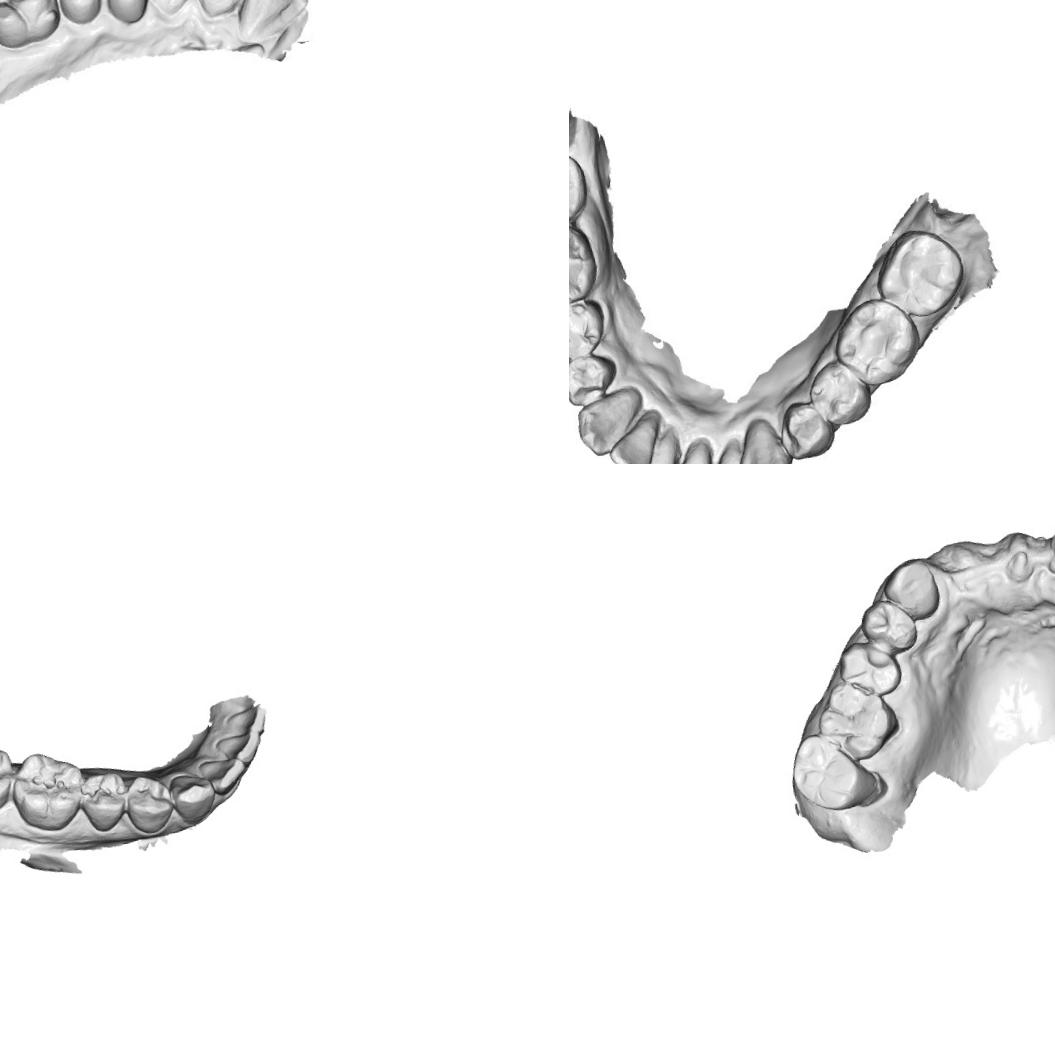canine: (574, 386, 640, 459), (880, 554, 944, 625), (731, 411, 794, 464), (165, 770, 218, 828), (141, 0, 208, 20)
incisor: (611, 408, 661, 464), (196, 754, 249, 798), (626, 421, 678, 464), (212, 729, 264, 766), (233, 0, 297, 30), (224, 703, 270, 737), (664, 433, 714, 464), (705, 440, 750, 464)
molar: (786, 727, 886, 815), (812, 677, 903, 765), (878, 227, 962, 313), (8, 748, 90, 836), (838, 300, 914, 384), (0, 0, 60, 47), (569, 220, 592, 303), (569, 148, 587, 224), (0, 743, 17, 815)
premolar: (834, 637, 904, 700), (858, 594, 920, 656), (810, 361, 868, 424), (122, 771, 176, 837), (78, 769, 130, 834), (781, 403, 831, 454), (569, 353, 614, 401), (569, 300, 603, 361), (99, 0, 154, 29), (50, 0, 102, 29)
